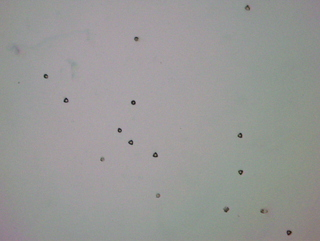nongerminated: (151, 189, 167, 202), (220, 203, 233, 216), (240, 2, 254, 14), (59, 94, 73, 106), (124, 135, 138, 147), (149, 150, 162, 162), (258, 202, 270, 215), (282, 226, 296, 237), (113, 125, 127, 135), (130, 33, 142, 44), (39, 71, 51, 82), (234, 129, 245, 141), (234, 164, 246, 175), (128, 97, 139, 108), (96, 153, 107, 164)
